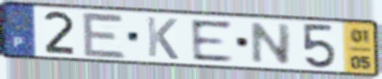2: (42, 10, 76, 56)
5: (302, 22, 338, 71)
E: (80, 10, 130, 60), (188, 18, 236, 63)
K: (144, 15, 181, 61)
N: (249, 20, 294, 66)
